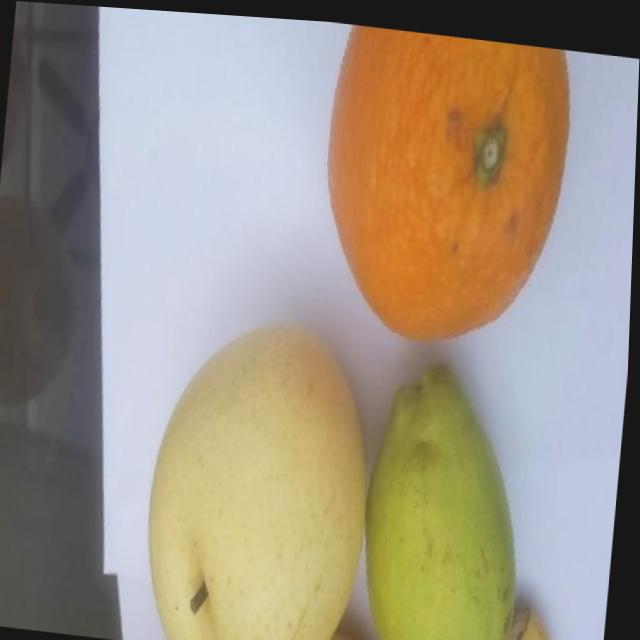Apple: (311, 616, 391, 640)
Banana: (487, 586, 578, 640)
Orange: (309, 17, 578, 356)
